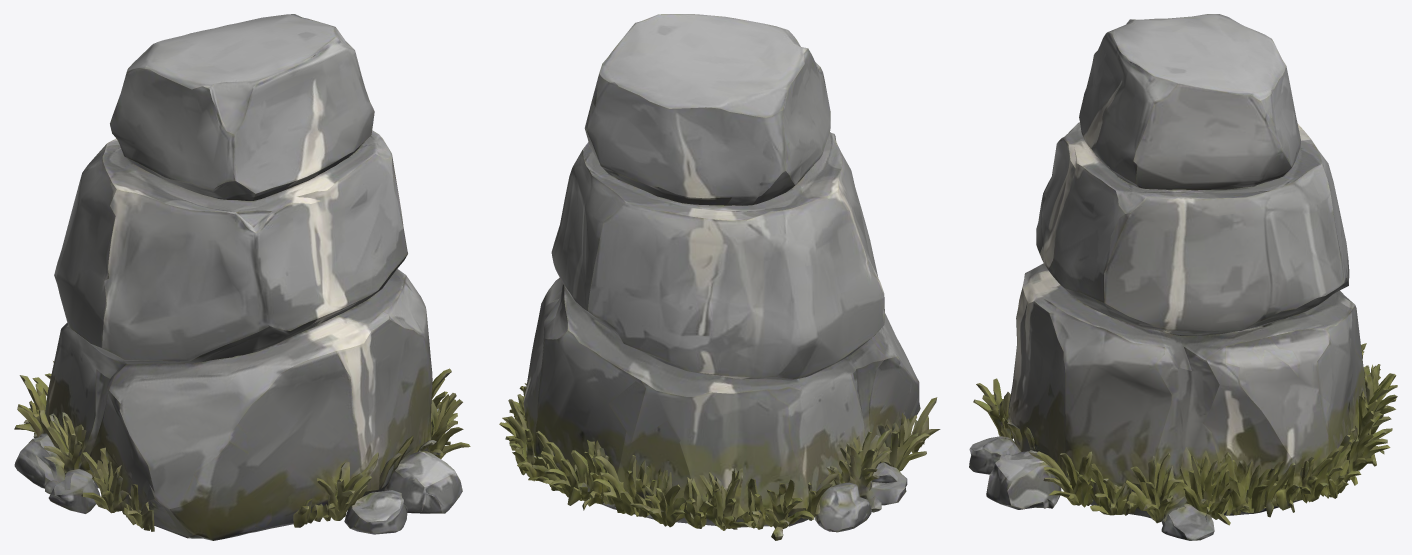
Rendered from hill_knoll.glb.
The picture shows the model from 3 angles, left to right: view 1: azimuth 30°, elevation 25°; view 2: azimuth 150°, elevation 25°; view 3: azimuth 270°, elevation 25°; orthographic projection. The views are drawn at different scales.
Visible parts, largest first — view 1: geometry_0; view 2: geometry_0; view 3: geometry_0.
Boxes of the visible parts, x1,y1,x2,y2 form: geometry_0: (14,14,470,540); geometry_0: (499,14,940,540); geometry_0: (969,14,1397,540).
Bounding box in the file's own units: 0.87 × 0.9 × 0.8524.
Materials: 1 (1 with a texture image).
